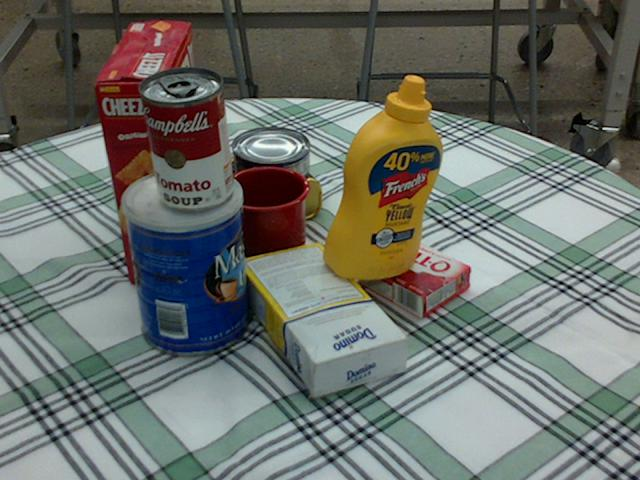cracker_box: (92, 24, 210, 280)
gelatin_box: (355, 235, 469, 319)
master_chef_can: (119, 167, 251, 357)
mug: (195, 165, 308, 272)
mustard_bottle: (323, 74, 442, 279)
potted_meat_can: (210, 144, 318, 228)
sugar_box: (236, 242, 410, 394)
tomato_soup_can: (138, 66, 232, 209)
tuna_fish_can: (231, 127, 309, 189)
